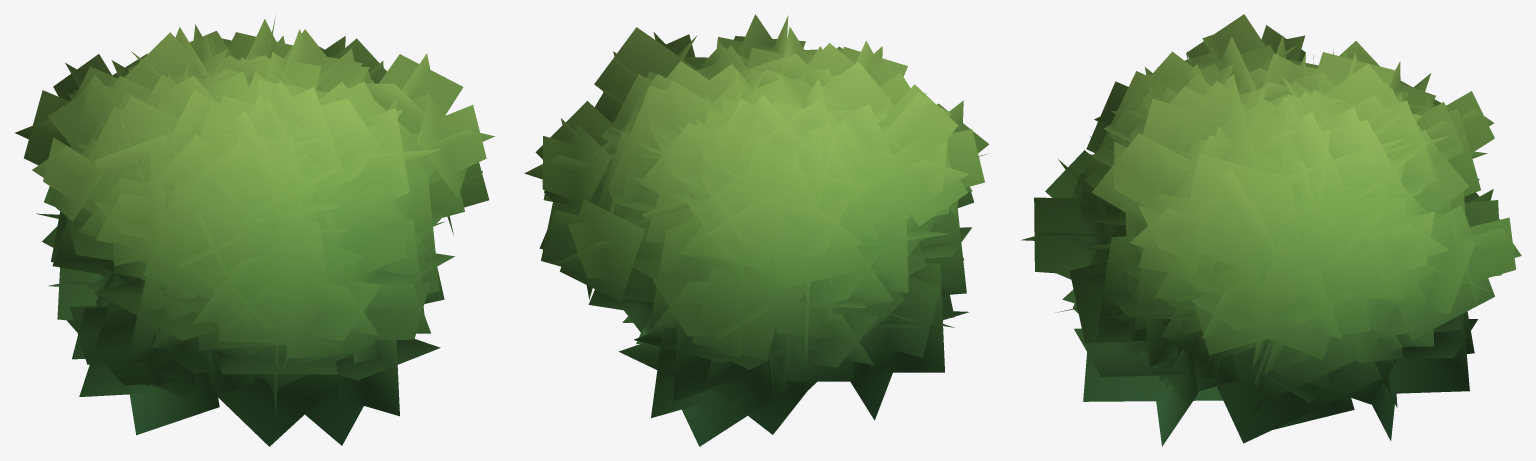
Rendered from q_bush_a.glb.
The picture shows the model from 3 angles, left to right: view 1: azimuth 30°, elevation 25°; view 2: azimuth 150°, elevation 25°; view 3: azimuth 270°, elevation 25°; orthographic projection. The views are drawn at different scales.
Visible parts, largest first — view 1: Leaves; view 2: Leaves; view 3: Leaves.
Boxes of the visible parts, x1,y1,x2,y2 form: Leaves: (15, 15, 494, 446); Leaves: (524, 14, 989, 446); Leaves: (1021, 14, 1521, 446).
Size of the model in its own units: 1.21 by 1 by 1.24.
